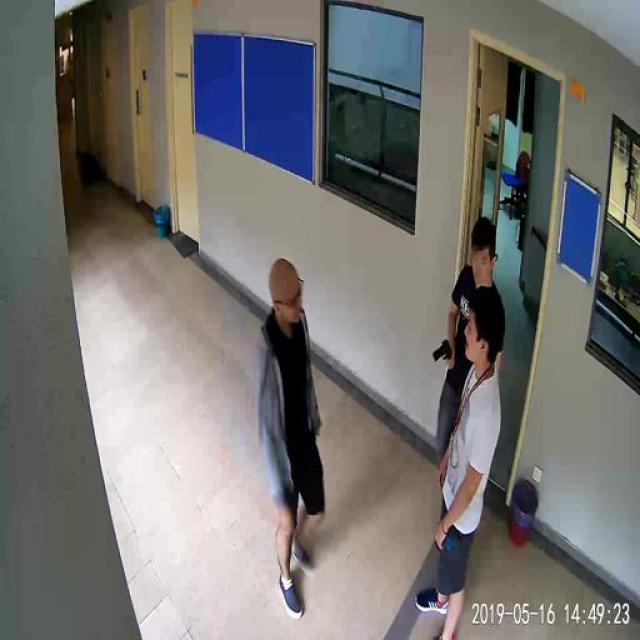Gun: (431, 336, 451, 366)
